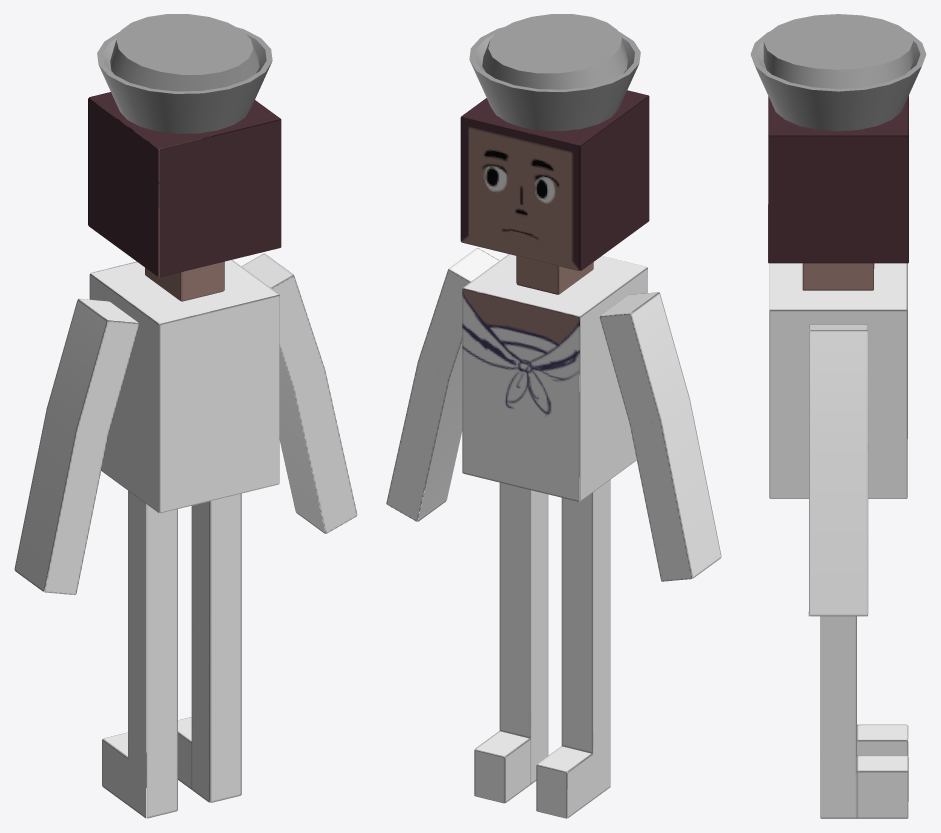
File: Playerplaceholder.fbx
The picture shows the model from 3 angles, left to right: view 1: azimuth 30°, elevation 25°; view 2: azimuth 150°, elevation 25°; view 3: azimuth 270°, elevation 25°; orthographic projection. The views are drawn at different scales.
Visible parts, largest first — view 1: pCylinder2; view 2: pCylinder2; view 3: pCylinder2.
Boxes of the visible parts, left/top/right/bottom form: pCylinder2: left=14, top=14, right=357, bottom=818; pCylinder2: left=386, top=14, right=721, bottom=818; pCylinder2: left=750, top=14, right=926, bottom=818.
Size of the model in its own units: 9.85 by 22.68 by 4.8.
